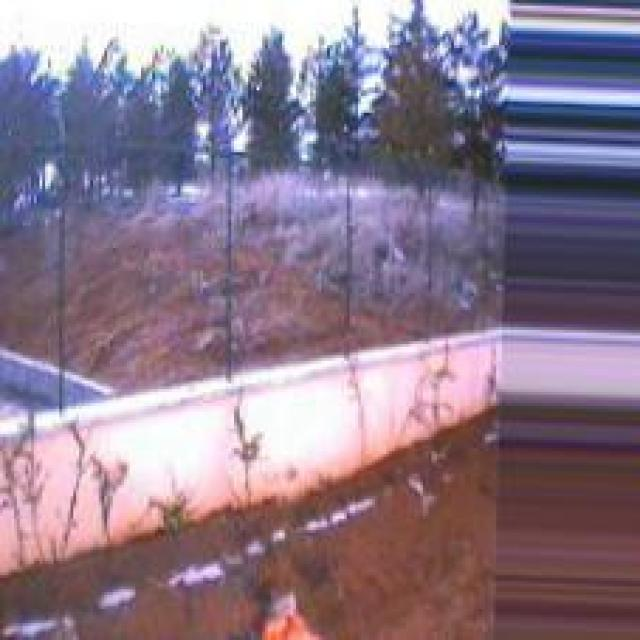fire: (243, 580, 313, 634)
